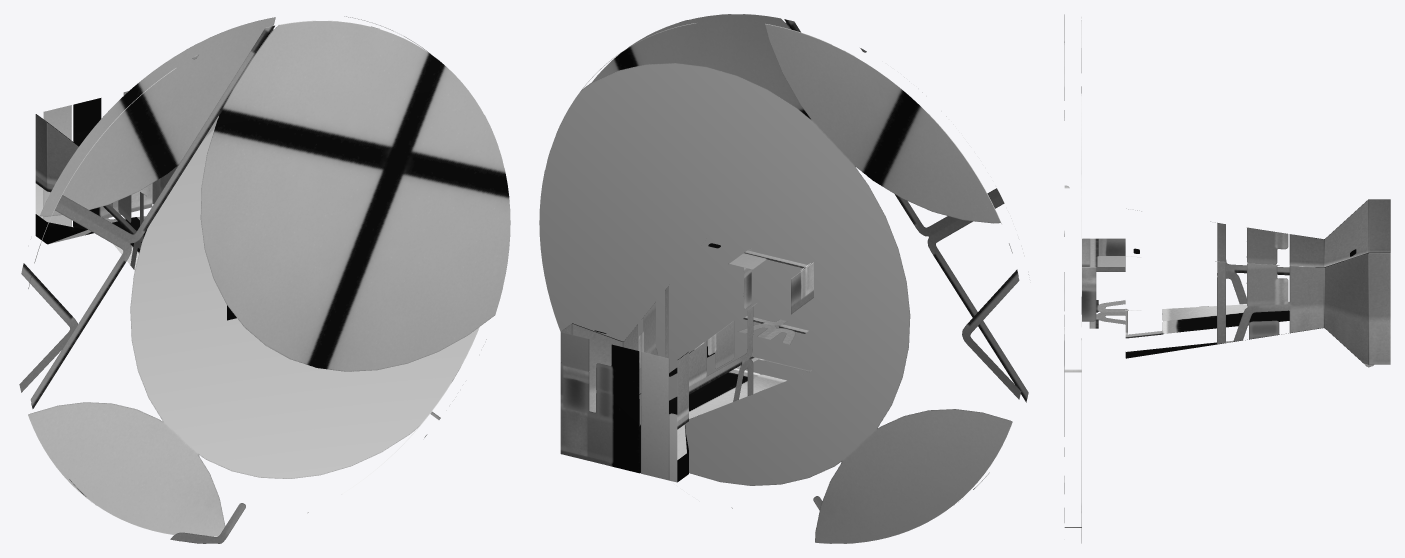
The picture shows the model from 3 angles, left to right: view 1: azimuth 30°, elevation 25°; view 2: azimuth 150°, elevation 25°; view 3: azimuth 270°, elevation 25°; orthographic projection. The views are drawn at different scales.
Size of the model in its own units: 0.65 by 0.65 by 0.4002.
